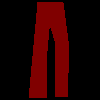abbigliamento_uomo: (28, 2, 69, 98)
